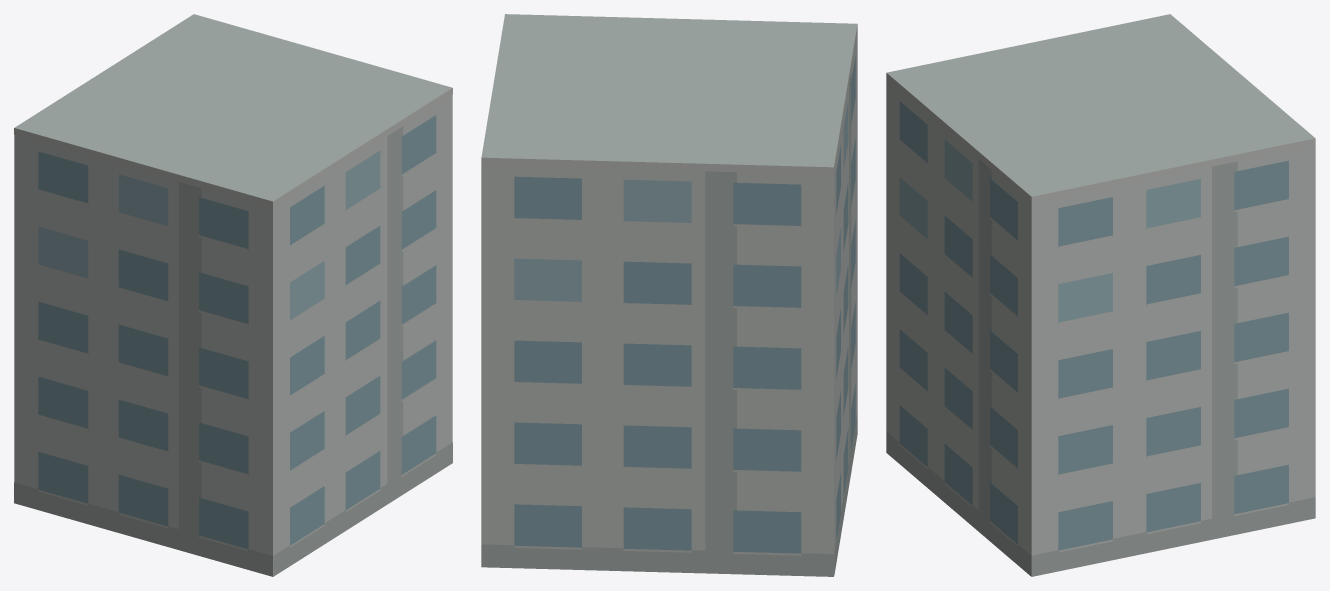
File: survey-upis-32840736.glb
3 renders of one model, left to right at view 1: azimuth 30°, elevation 25°; view 2: azimuth 150°, elevation 25°; view 3: azimuth 270°, elevation 25°, orthographic. The views are drawn at different scales.
Parts seen in each view (by area): view 1: survey-upis-32840736.tmp; view 2: survey-upis-32840736.tmp; view 3: survey-upis-32840736.tmp.
Part boxes in pixels (x1,y1,x2,y2): survey-upis-32840736.tmp: [14, 14, 452, 576]; survey-upis-32840736.tmp: [481, 14, 857, 576]; survey-upis-32840736.tmp: [886, 14, 1315, 576].
Bounding box in the file's own units: 13.63 × 13.2 × 13.52.
